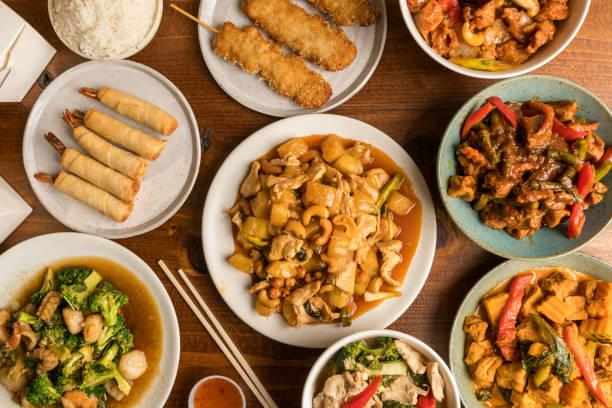Braised Crucian Carp: (202, 113, 432, 347), (437, 73, 609, 259), (1, 232, 178, 408), (22, 59, 197, 236), (448, 255, 609, 407)
